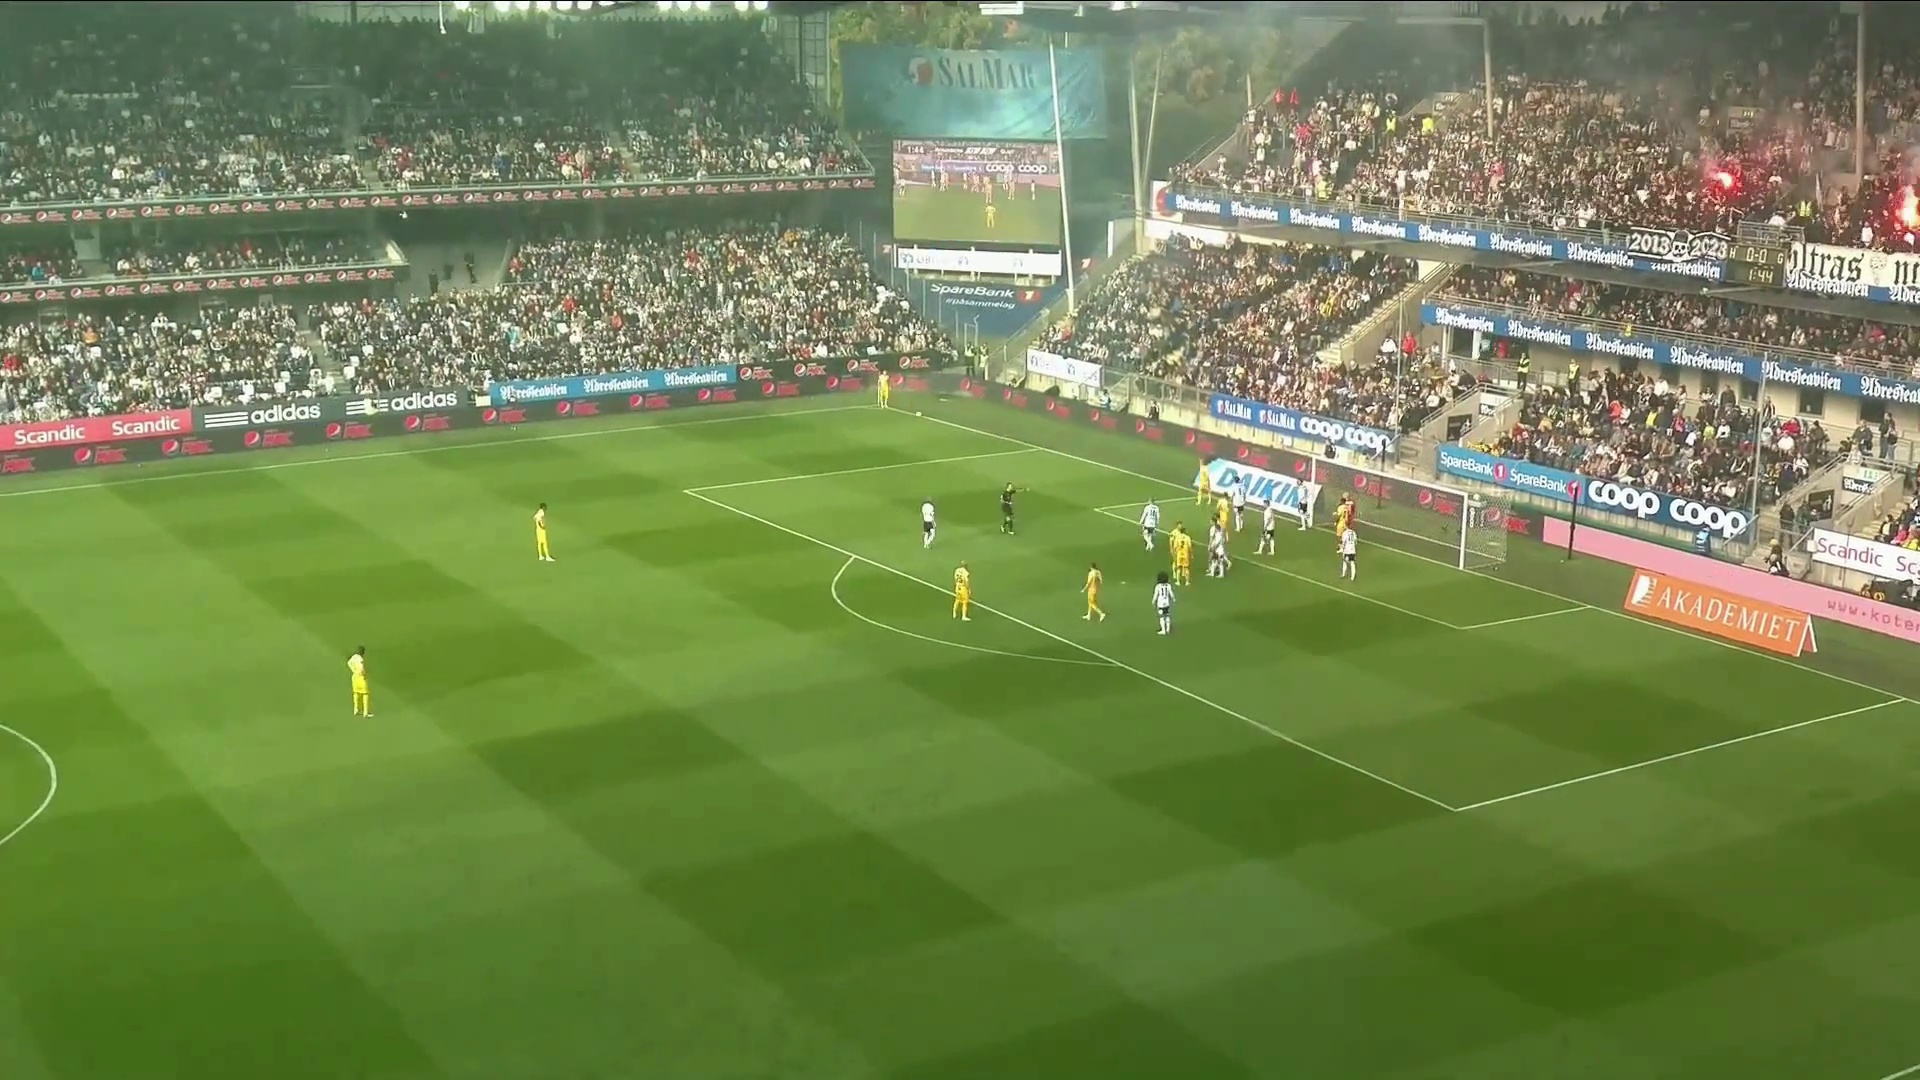player: (347, 645, 374, 718), (1206, 513, 1232, 578), (1169, 521, 1194, 588), (1208, 492, 1233, 557), (1080, 561, 1106, 623), (1152, 571, 1176, 635), (533, 502, 556, 562), (952, 559, 973, 621), (1337, 519, 1358, 581), (1254, 501, 1277, 555), (1139, 495, 1160, 552), (1229, 475, 1248, 532), (998, 482, 1018, 535), (1337, 493, 1358, 543), (1333, 494, 1354, 542), (1209, 526, 1228, 579), (1296, 478, 1313, 530), (1193, 462, 1212, 506), (921, 498, 937, 549), (1344, 494, 1358, 547), (876, 369, 891, 408)
